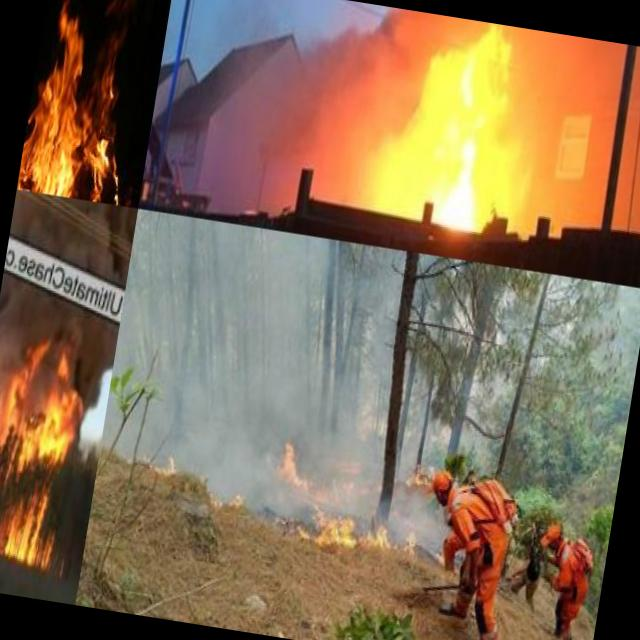fire: (365, 10, 556, 240), (16, 0, 163, 206), (0, 481, 79, 572), (314, 501, 423, 566), (5, 381, 76, 472), (268, 434, 322, 496), (125, 442, 187, 482), (201, 481, 245, 514)
smoke: (107, 208, 426, 450), (178, 418, 276, 510), (21, 316, 119, 394), (314, 438, 396, 512), (240, 484, 320, 538), (0, 309, 30, 411)
